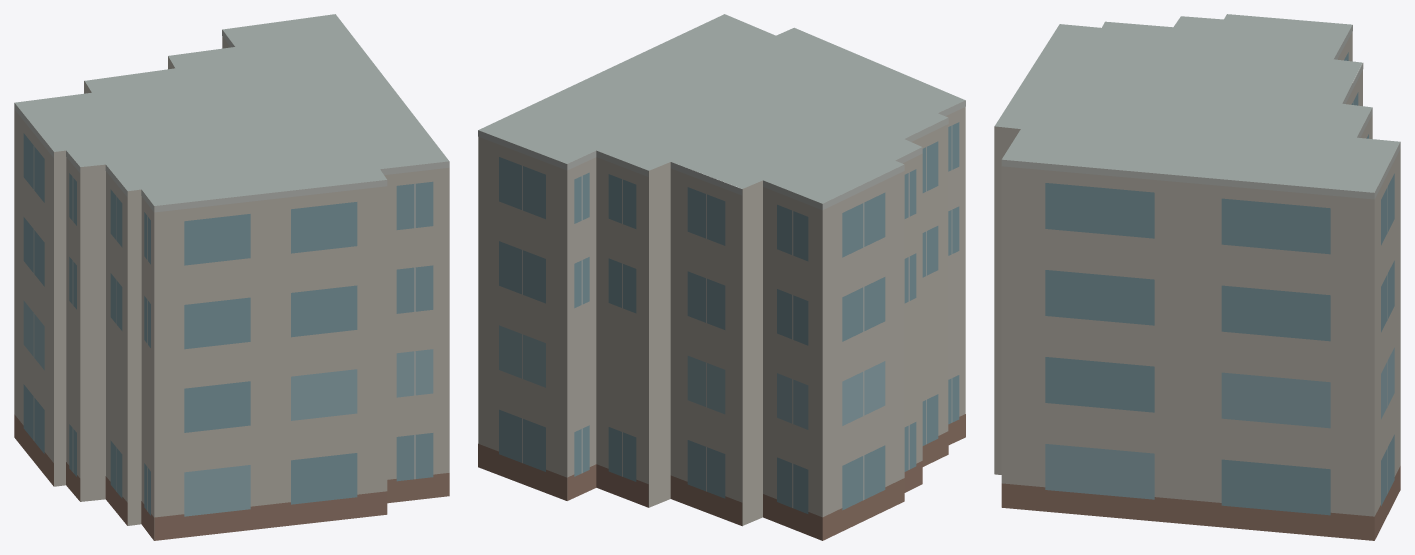
File: survey-upis-32489429.glb
3 views of the same model, side by side, from view 1: azimuth 30°, elevation 25°; view 2: azimuth 150°, elevation 25°; view 3: azimuth 270°, elevation 25° (orthographic). The views are drawn at different scales.
Visible parts, largest first — view 1: survey-upis-32489429.tmp; view 2: survey-upis-32489429.tmp; view 3: survey-upis-32489429.tmp.
Part boxes in pixels (<box>): survey-upis-32489429.tmp: <box>14,14,449,540</box>; survey-upis-32489429.tmp: <box>478,14,965,540</box>; survey-upis-32489429.tmp: <box>994,14,1400,540</box>.
Size of the model in its own units: 14.06 by 12.75 by 13.49.
